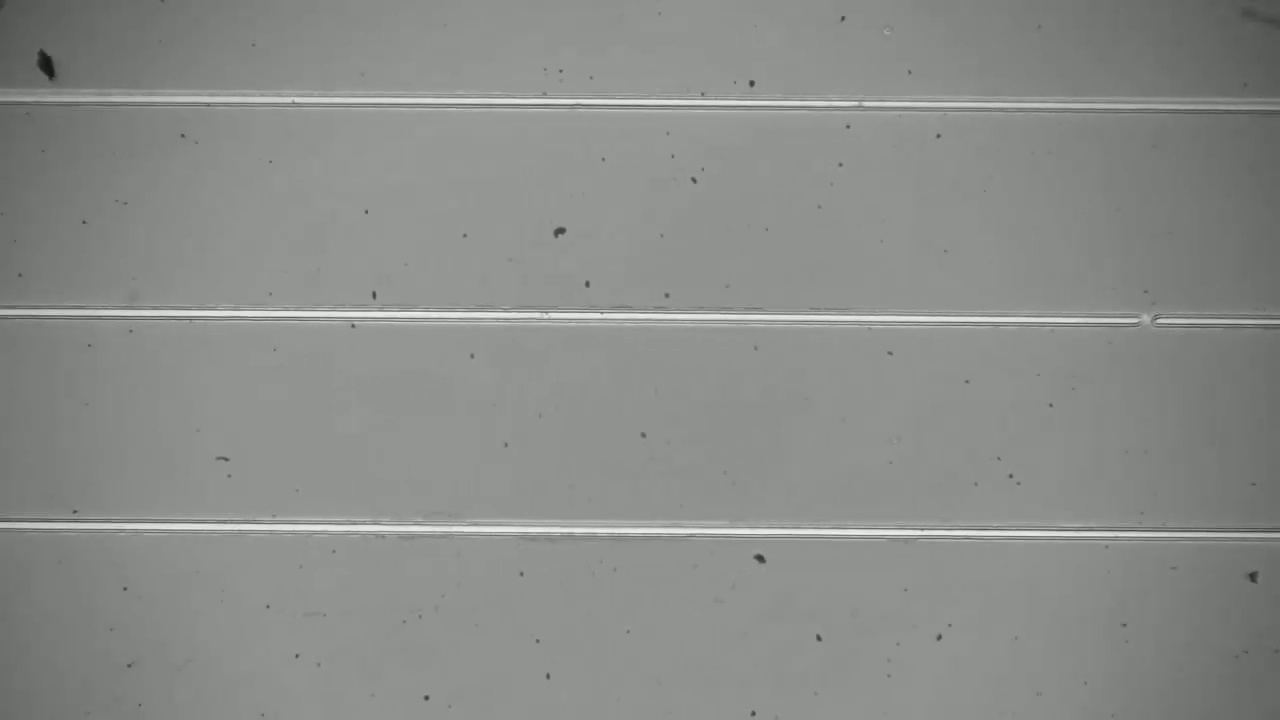open: (1120, 298, 1172, 340)
